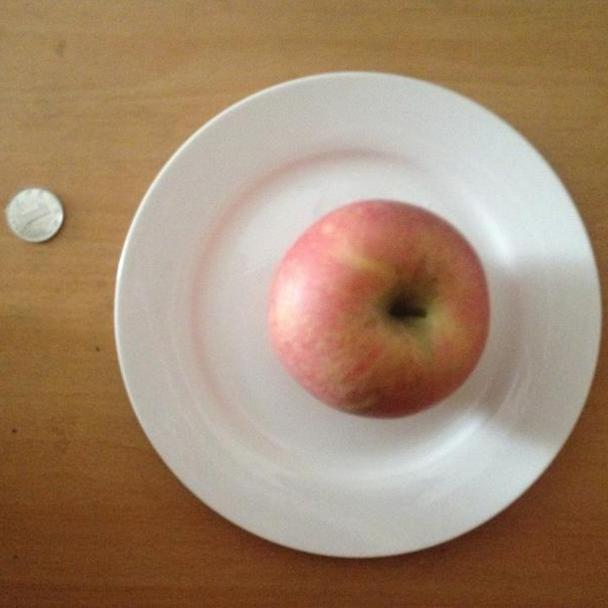apple: (266, 197, 498, 421)
